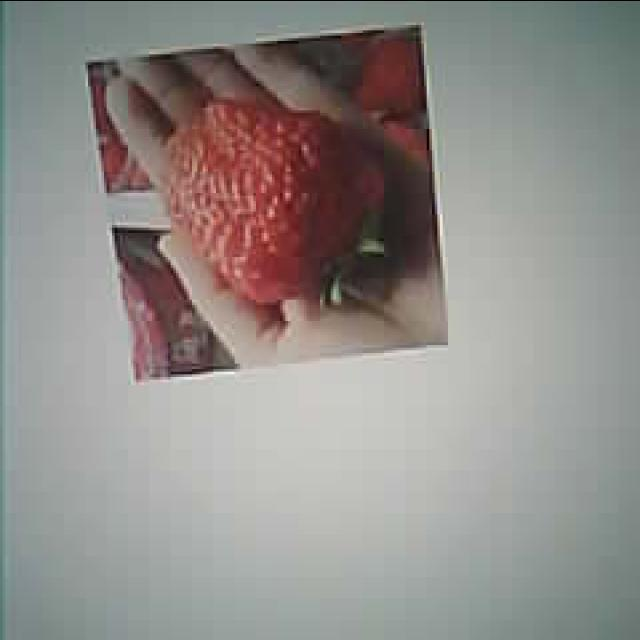strawberry: (164, 98, 378, 300)
